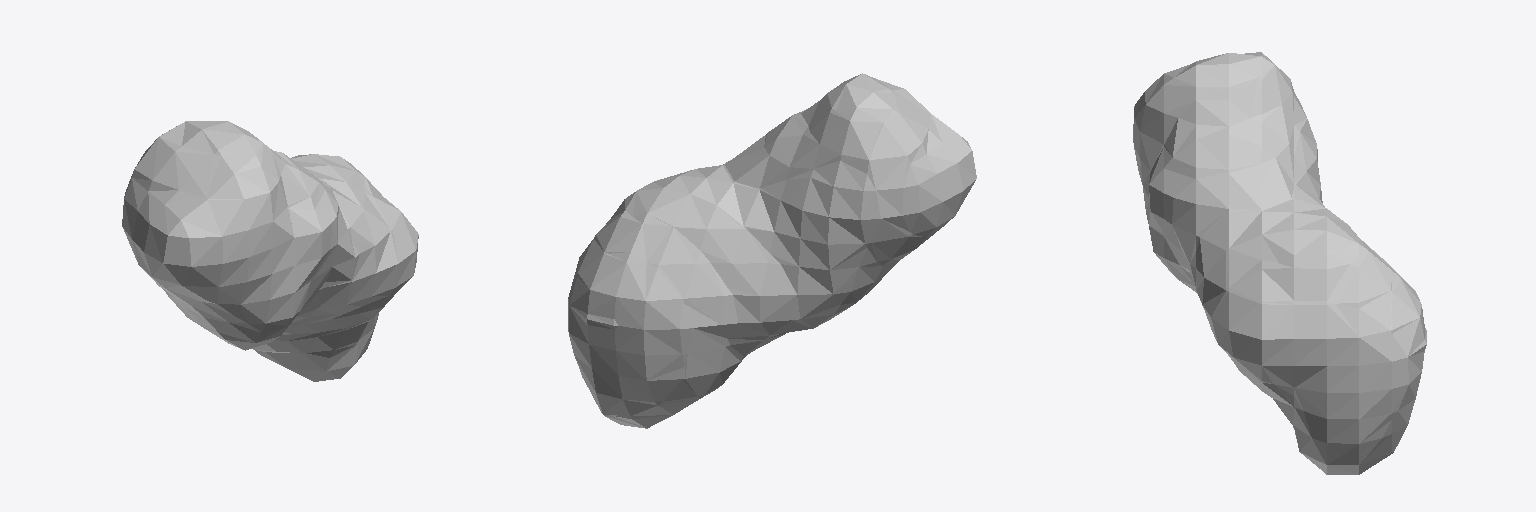
Rendered from 2k8i_mb_cms.obj.
3 renders of one model, left to right at view 1: azimuth 30°, elevation 25°; view 2: azimuth 150°, elevation 25°; view 3: azimuth 270°, elevation 25°, orthographic.
Size of the model in its own units: 58.75 by 60.69 by 48.64.